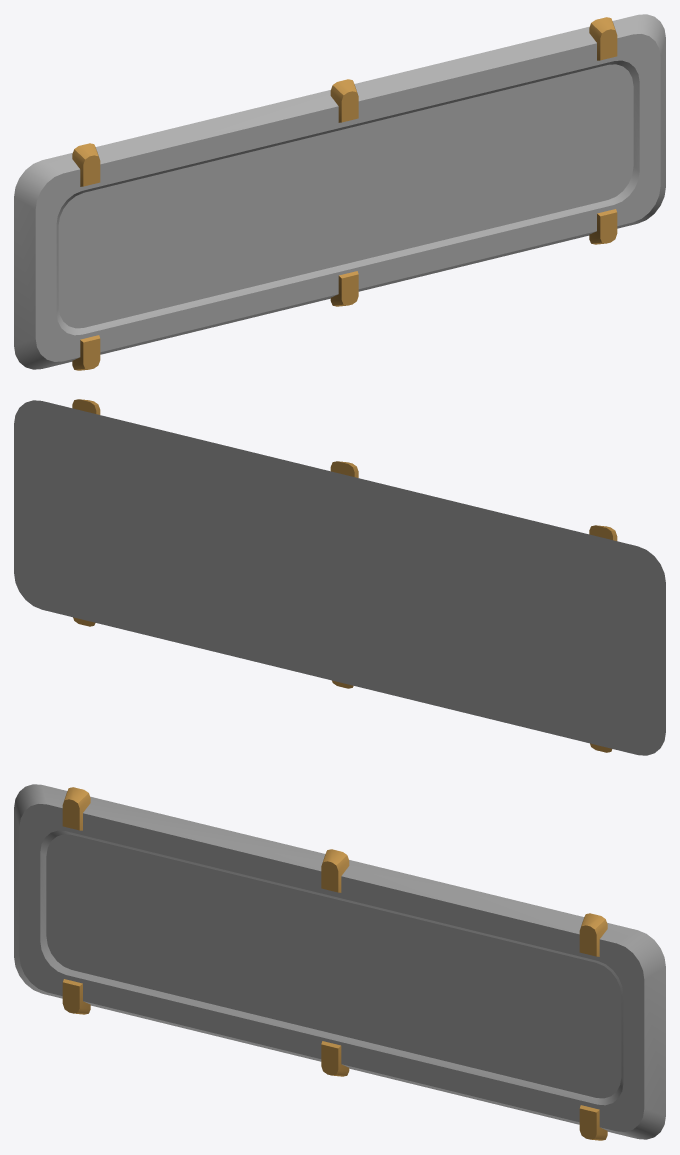
File: Details_Plate_Long.gltf
3 renders of one model, top to bottom at view 1: azimuth 30°, elevation 25°; view 2: azimuth 150°, elevation 25°; view 3: azimuth 330°, elevation 25°, orthographic.
Visible parts, largest first — view 1: Details_Plate_Long; view 2: Details_Plate_Long; view 3: Details_Plate_Long.
Part boxes in pixels (x1,y1,x2,y2): Details_Plate_Long: [14, 14, 665, 370]; Details_Plate_Long: [14, 399, 665, 755]; Details_Plate_Long: [14, 784, 665, 1140].
Bounding box in the file's own units: 1.05 × 0.3482 × 0.0287.
